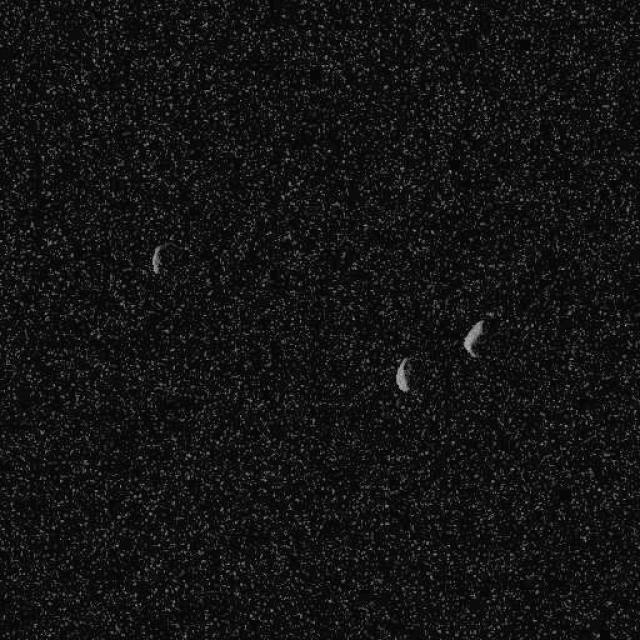D2: (462, 318, 486, 358), (393, 355, 412, 393), (150, 243, 165, 275)
